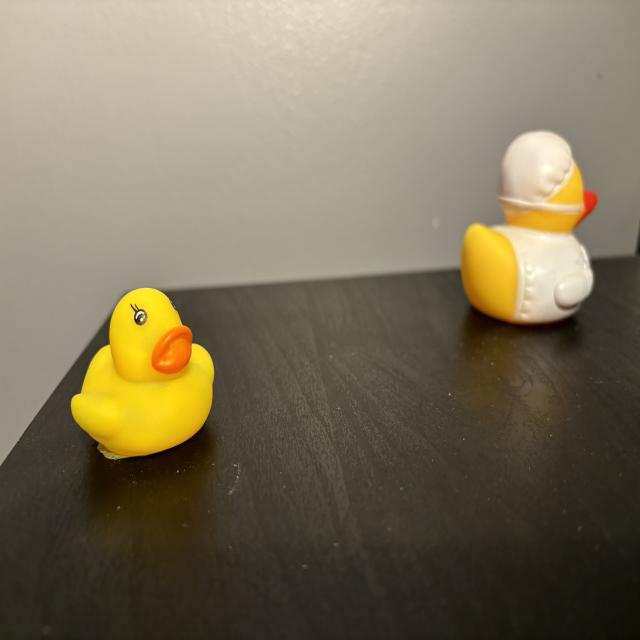duck_regular: (72, 288, 217, 461)
duck_specialty: (464, 133, 599, 326)
